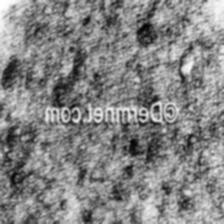Potentially Malignant Skin Tumors: (0, 0, 224, 102), (108, 135, 172, 224)
